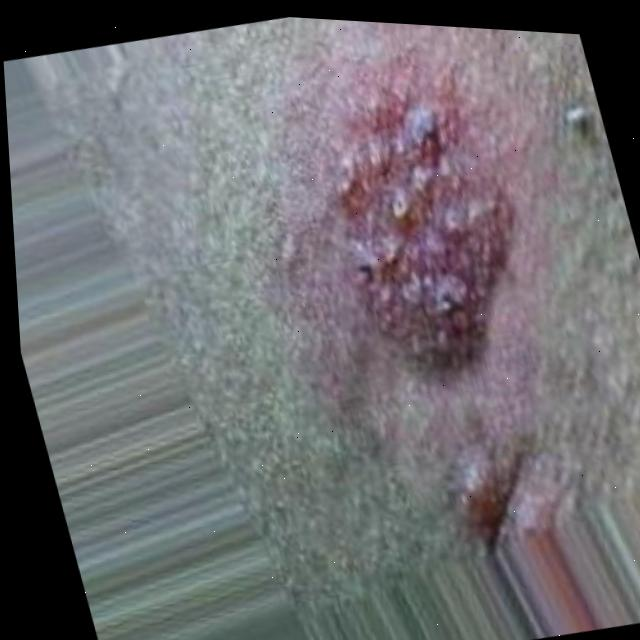Shingles: (330, 97, 521, 384)
